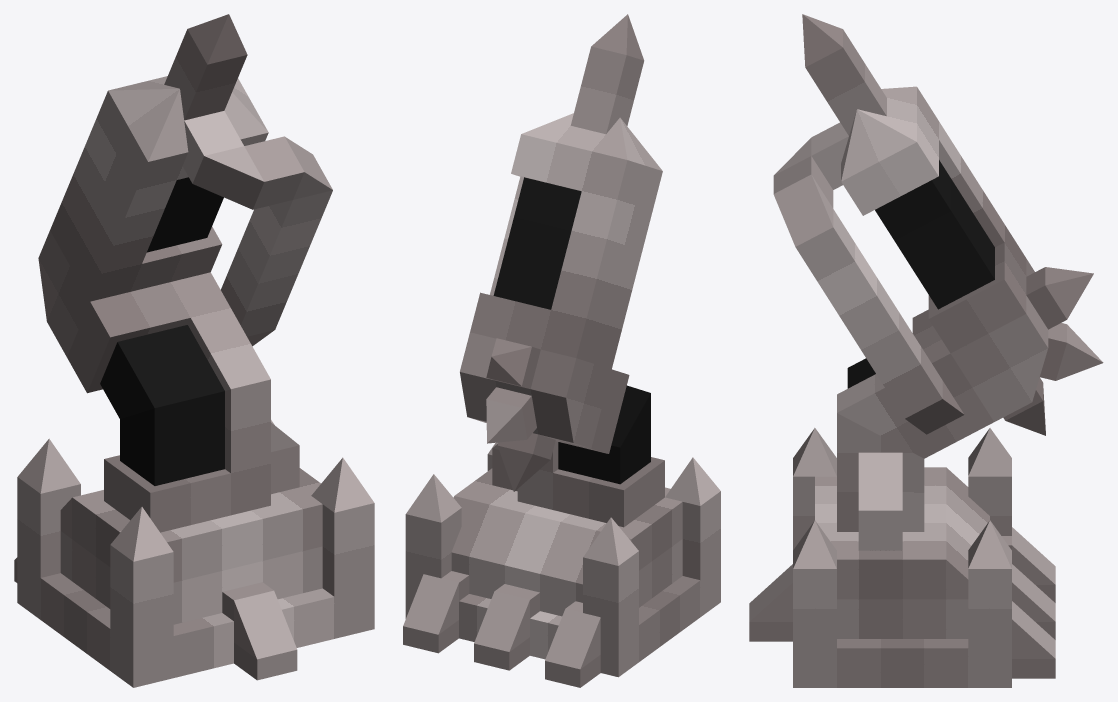
Rendered from leg_reinforced_r.obj.
3 renders of one model, left to right at view 1: azimuth 30°, elevation 25°; view 2: azimuth 150°, elevation 25°; view 3: azimuth 270°, elevation 25°, orthographic. The views are drawn at different scales.
Parts seen in each view (by area): view 1: LEG_RIGHT_REINFORCED_Cube.039, LEG_RIGHT_DECO_IRON_Cube.158, LEG_RIGHT_DECO_IRON_OUTERFOOT_Cube.159; view 2: LEG_RIGHT_REINFORCED_Cube.039, LEG_RIGHT_DECO_IRON_Cube.158, LEG_RIGHT_DECO_IRON_OUTERFOOT_Cube.159; view 3: LEG_RIGHT_REINFORCED_Cube.039, LEG_RIGHT_DECO_IRON_Cube.158, LEG_RIGHT_DECO_IRON_OUTERFOOT_Cube.159.
Part boxes in pixels (left/top/right/bottom): LEG_RIGHT_REINFORCED_Cube.039: left=14, top=76, right=374, bottom=687; LEG_RIGHT_DECO_IRON_Cube.158: left=17, top=14, right=247, bottom=645; LEG_RIGHT_DECO_IRON_OUTERFOOT_Cube.159: left=271, top=420, right=374, bottom=596; LEG_RIGHT_REINFORCED_Cube.039: left=403, top=113, right=720, bottom=687; LEG_RIGHT_DECO_IRON_Cube.158: left=486, top=14, right=720, bottom=639; LEG_RIGHT_DECO_IRON_OUTERFOOT_Cube.159: left=405, top=442, right=497, bottom=590; LEG_RIGHT_REINFORCED_Cube.039: left=749, top=86, right=1055, bottom=687; LEG_RIGHT_DECO_IRON_Cube.158: left=793, top=14, right=1103, bottom=549; LEG_RIGHT_DECO_IRON_OUTERFOOT_Cube.159: left=793, top=520, right=1011, bottom=648.
Bounding box in the file's own units: 0.375 × 0.9599 × 0.506.
